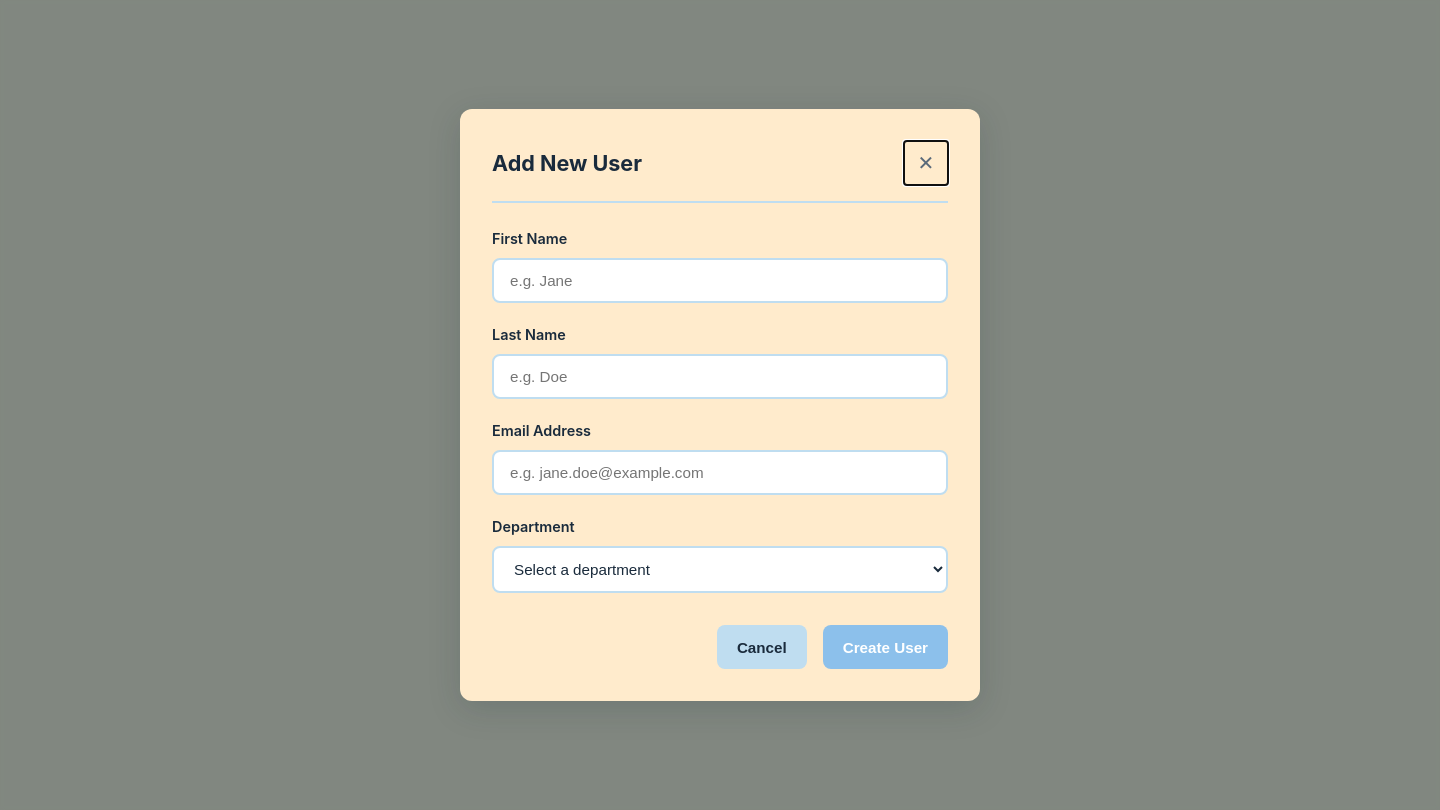
Test case: UserForm Component › displays validation error messages when attempting to submit empty fields
Click the button "Create User" at point(885, 647), box [823, 625, 948, 669]
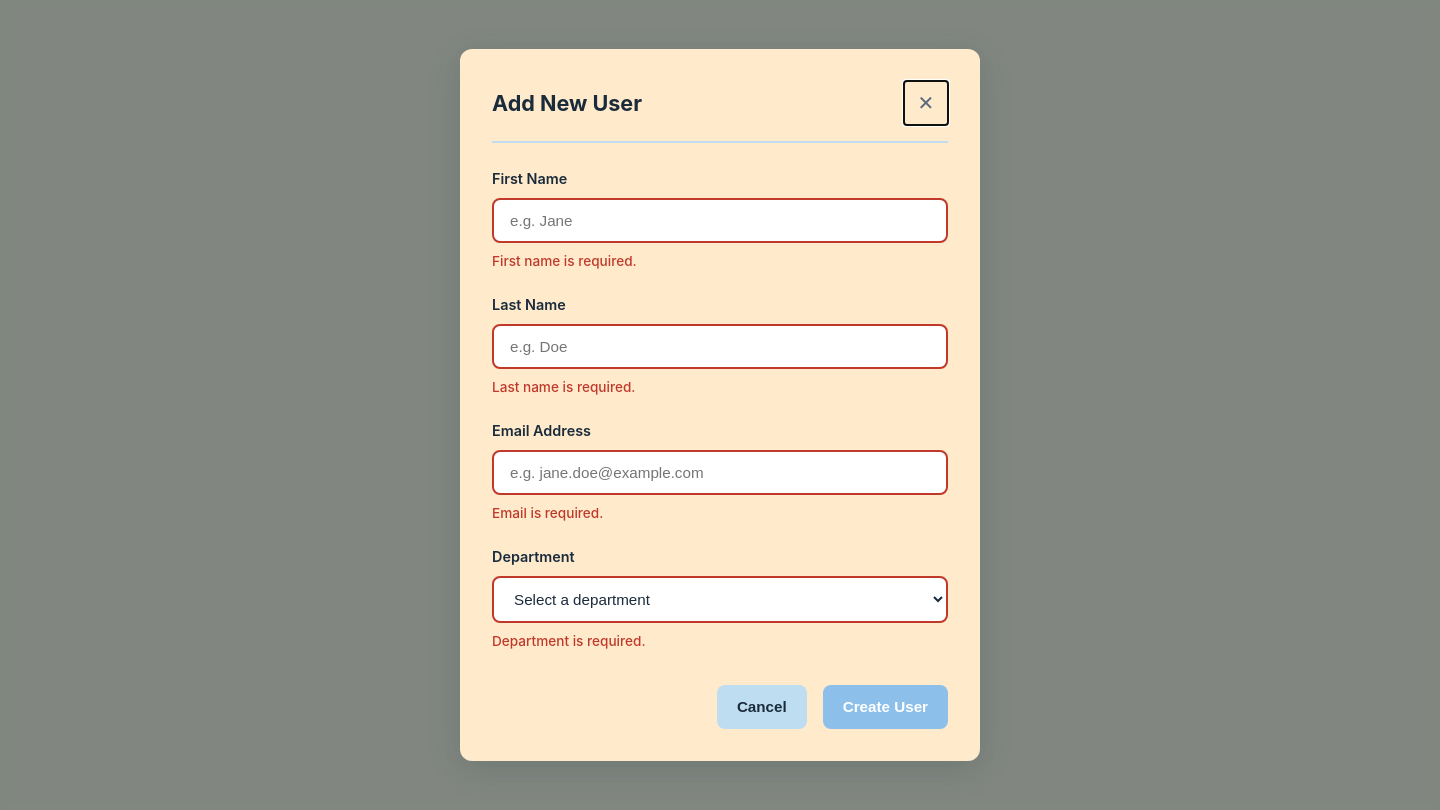
Expected: the text "First name is required." is shown, [492, 254, 637, 270]
Expected: the text "Last name is required." is shown, [492, 379, 635, 395]
Expected: the text "Email is required." is shown, [492, 505, 603, 521]
